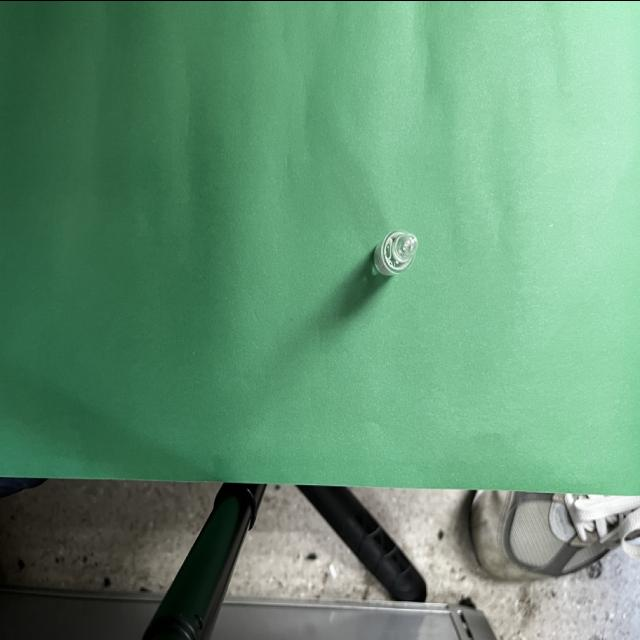Ampoules: (373, 230, 418, 275)
